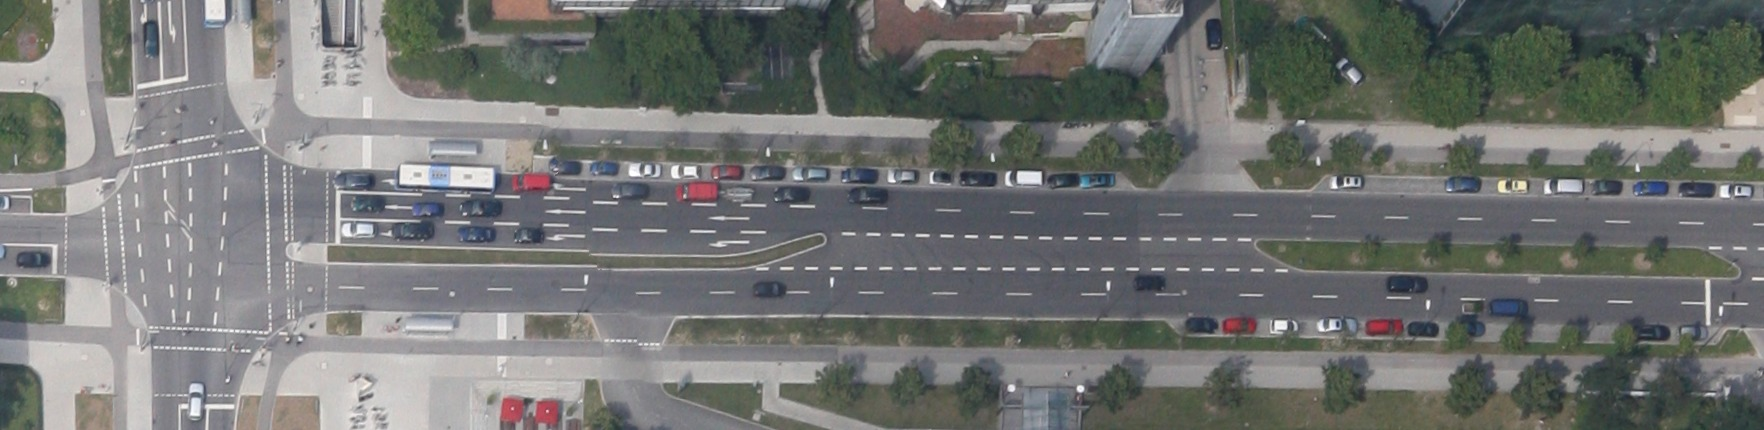car: (1333, 54, 1366, 88), (675, 182, 715, 201), (393, 221, 431, 240), (1003, 168, 1042, 187), (333, 170, 369, 190), (460, 199, 501, 217), (1487, 298, 1527, 316), (1543, 176, 1582, 194), (1386, 275, 1426, 292), (1315, 317, 1356, 334), (512, 173, 549, 191), (1443, 174, 1479, 192), (186, 382, 202, 420), (847, 186, 885, 203), (16, 251, 49, 269), (350, 194, 384, 212), (340, 221, 375, 238), (773, 185, 808, 201), (143, 21, 159, 59), (611, 182, 648, 198), (1365, 319, 1401, 334), (1205, 17, 1222, 50), (841, 167, 876, 182), (457, 226, 494, 241), (751, 281, 785, 297), (1638, 323, 1669, 340), (792, 165, 826, 181), (958, 170, 994, 185), (1185, 316, 1217, 332), (1223, 316, 1255, 332), (750, 164, 783, 180), (548, 158, 580, 173), (1678, 181, 1713, 196), (1588, 178, 1620, 194), (1133, 275, 1164, 290), (1632, 180, 1666, 195), (513, 227, 543, 243), (1406, 320, 1437, 335), (1718, 183, 1750, 198), (1329, 174, 1361, 189), (628, 162, 660, 177), (1269, 317, 1297, 334), (411, 201, 442, 216), (1048, 172, 1078, 188), (724, 185, 751, 201), (711, 164, 741, 179), (670, 163, 699, 179), (1080, 173, 1113, 187), (886, 168, 916, 182), (1497, 178, 1525, 192), (589, 160, 616, 174), (1678, 325, 1705, 339), (928, 169, 949, 183), (1461, 301, 1482, 314)
